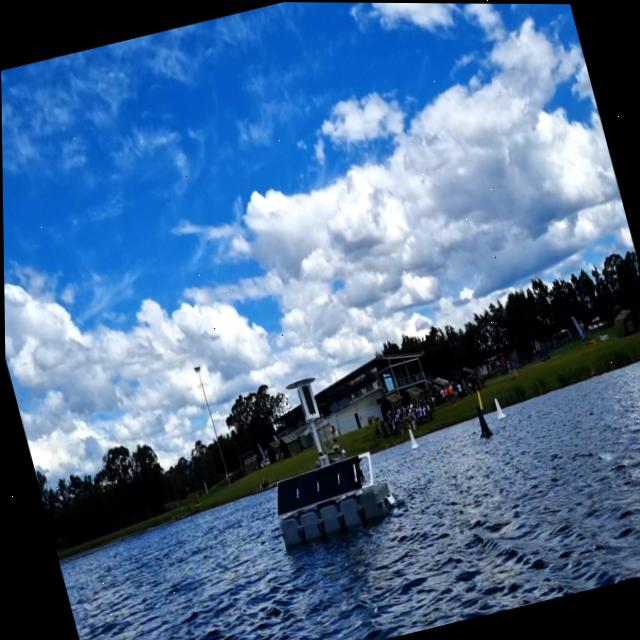led: (297, 381, 317, 417)
